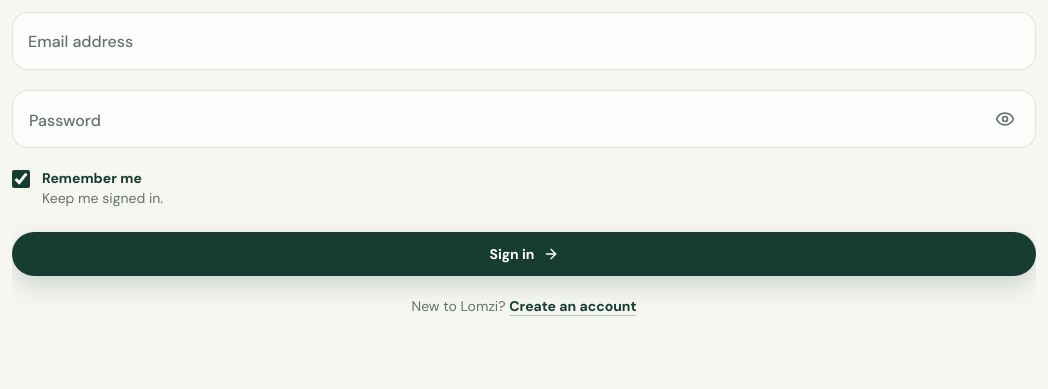
Test: AuthForm › shows accessible login validation and remember-me without unused links
Expected: the checkbox labelled "Remember me" is checked, [12,170,30,188]
Click the button "Sign in".
click(524, 254)  # box [12,232,1036,276]
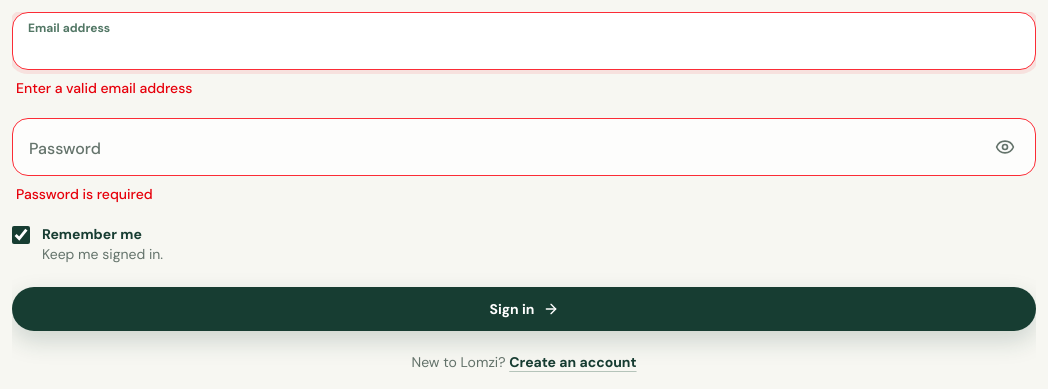
Expected: the text "Enter a valid email address" is shown, [16,79,192,97]
Expected: the text "Password is required" is shown, [16,185,153,203]
